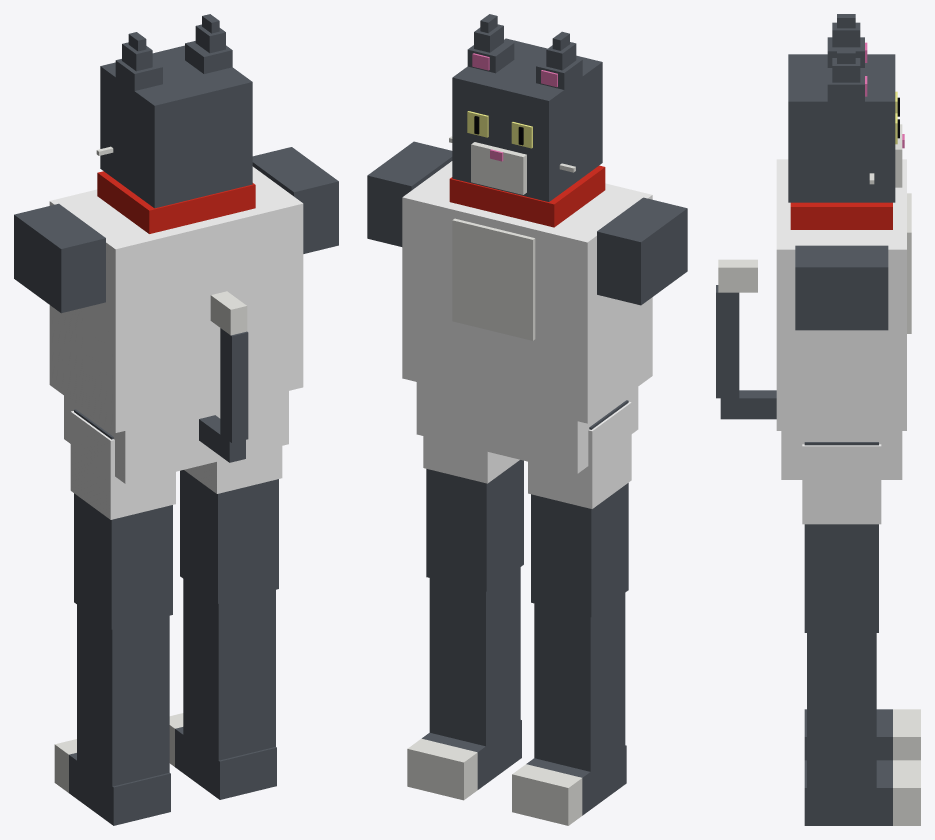
File: CAT.gltf
The picture shows the model from 3 angles, left to right: view 1: azimuth 30°, elevation 25°; view 2: azimuth 150°, elevation 25°; view 3: azimuth 270°, elevation 25°; orthographic projection.
Parts seen in each view (by area): view 1: CAT; view 2: CAT; view 3: CAT.
Boxes of the visible parts, box(x1,y1,x2,y2) form: CAT: box(14, 14, 338, 825); CAT: box(367, 14, 687, 825); CAT: box(716, 14, 920, 825).
Bounding box in the file's own units: 0.68 × 1.78 × 0.44.
